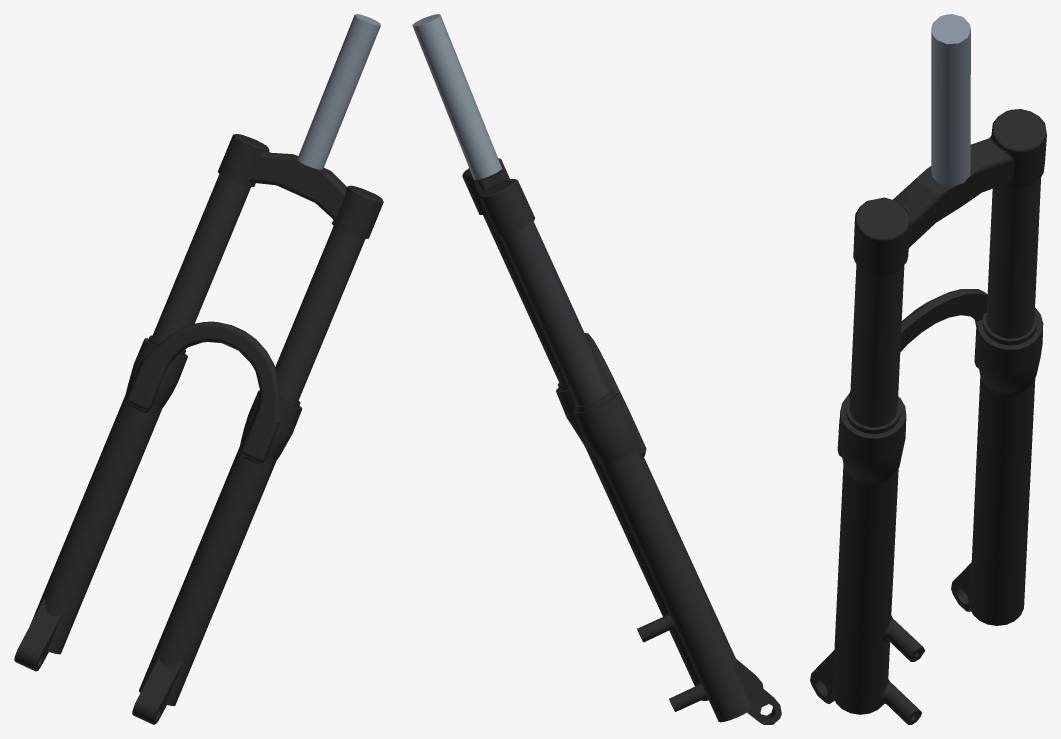
Rendered from fork_LOD0.fbx.
The picture shows the model from 3 angles, left to right: view 1: azimuth 30°, elevation 25°; view 2: azimuth 150°, elevation 25°; view 3: azimuth 270°, elevation 25°; orthographic projection. The views are drawn at different scales.
Parts seen in each view (by area): view 1: MM_carbon_n0297_lower, MM_carbon_n0472_upper, MM_carbon_n0474_upper, MM_carbon_n0476_upper, MM_carbon_n0478_upper; view 2: MM_carbon_n0297_lower, MM_carbon_n0476_upper, MM_carbon_n0478_upper, MM_carbon_n0472_upper, MM_carbon_n0474_upper; view 3: MM_carbon_n0297_lower, MM_carbon_n0472_upper, MM_carbon_n0474_upper, MM_carbon_n0476_upper, MM_carbon_n0478_upper.
Part boxes in pixels (<box>): MM_carbon_n0297_lower: <box>14,321,302,724</box>; MM_carbon_n0472_upper: <box>217,134,383,238</box>; MM_carbon_n0474_upper: <box>275,226,365,402</box>; MM_carbon_n0476_upper: <box>152,174,250,342</box>; MM_carbon_n0478_upper: <box>297,14,380,169</box>; MM_carbon_n0297_lower: <box>556,333,781,724</box>; MM_carbon_n0476_upper: <box>500,221,610,406</box>; MM_carbon_n0478_upper: <box>412,14,502,179</box>; MM_carbon_n0472_upper: <box>462,158,534,236</box>; MM_carbon_n0474_upper: <box>483,214,567,384</box>; MM_carbon_n0297_lower: <box>810,289,1043,724</box>; MM_carbon_n0472_upper: <box>853,109,1046,275</box>; MM_carbon_n0474_upper: <box>849,264,904,427</box>; MM_carbon_n0476_upper: <box>986,178,1040,338</box>; MM_carbon_n0478_upper: <box>931,14,970,186</box>.
Size of the model in its own units: 0.4142 by 0.6848 by 0.1718.
